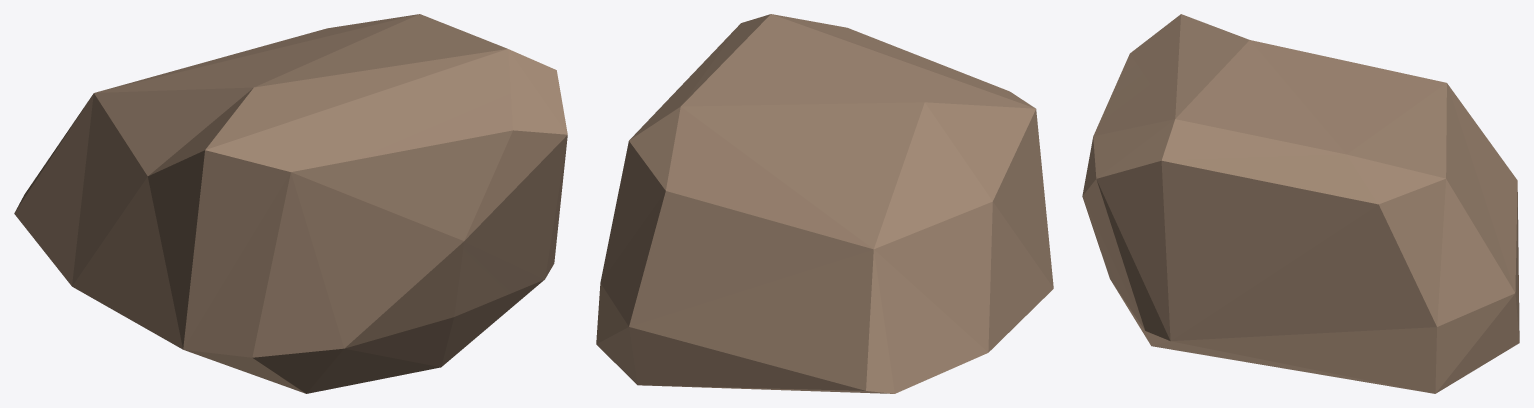
Rendered from zone2-s4.glb.
3 renders of one model, left to right at view 1: azimuth 30°, elevation 25°; view 2: azimuth 150°, elevation 25°; view 3: azimuth 270°, elevation 25°, orthographic. The views are drawn at different scales.
Parts seen in each view (by area): view 1: rock-sandstone-small-b.001; view 2: rock-sandstone-small-b.001; view 3: rock-sandstone-small-b.001.
Boxes of the visible parts, x1,y1,x2,y2 form: rock-sandstone-small-b.001: (14, 14, 567, 393); rock-sandstone-small-b.001: (596, 14, 1053, 393); rock-sandstone-small-b.001: (1082, 14, 1519, 393).
Size of the model in its own units: 10.12 by 7.14 by 10.78.
